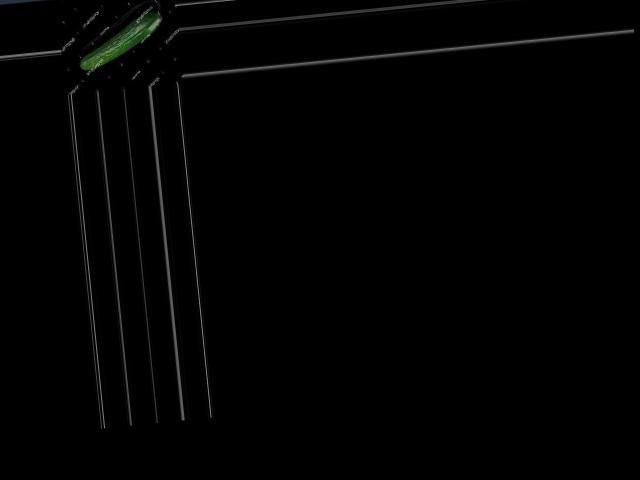cucumber: (74, 8, 165, 71)
